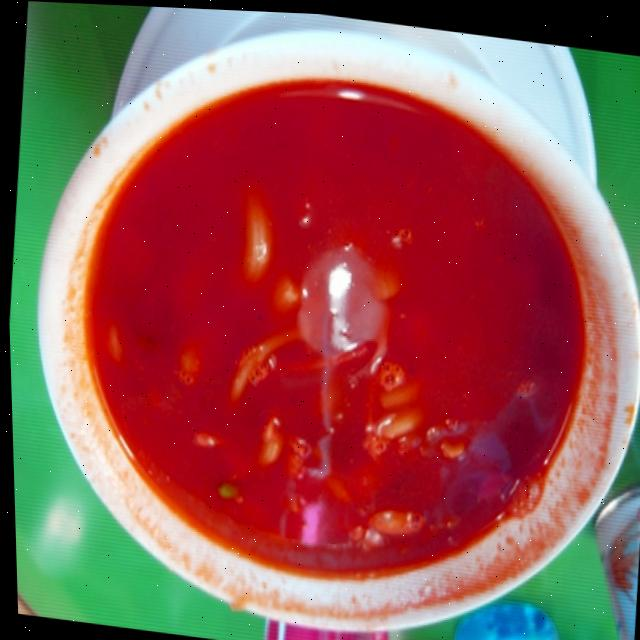汤锅炖物: (21, 13, 640, 640)
